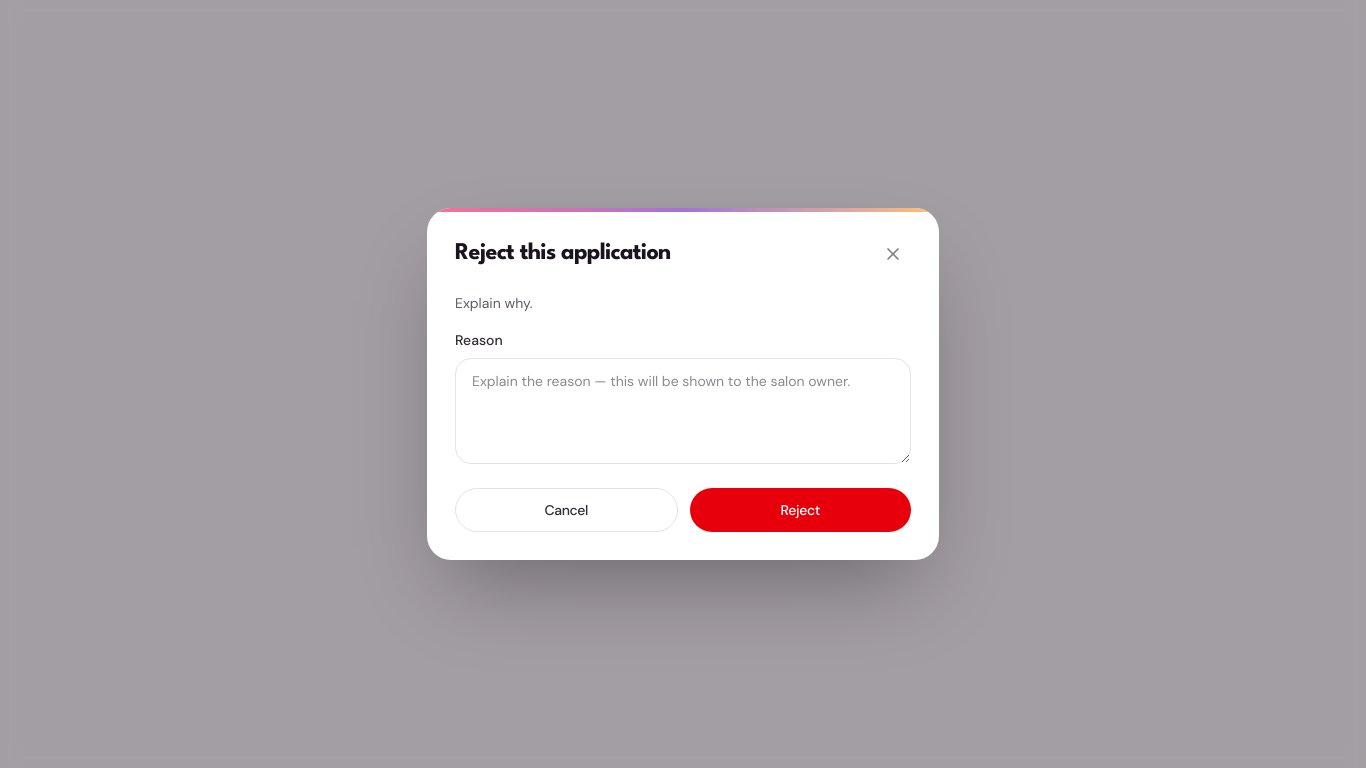
Scenario: ReasonModal (rejection/suspension-reason validation) › blocks submission and shows an error when the reason is empty
Click the button "Reject" at (800, 510), box top-left (690, 488), bottom-right (911, 532)
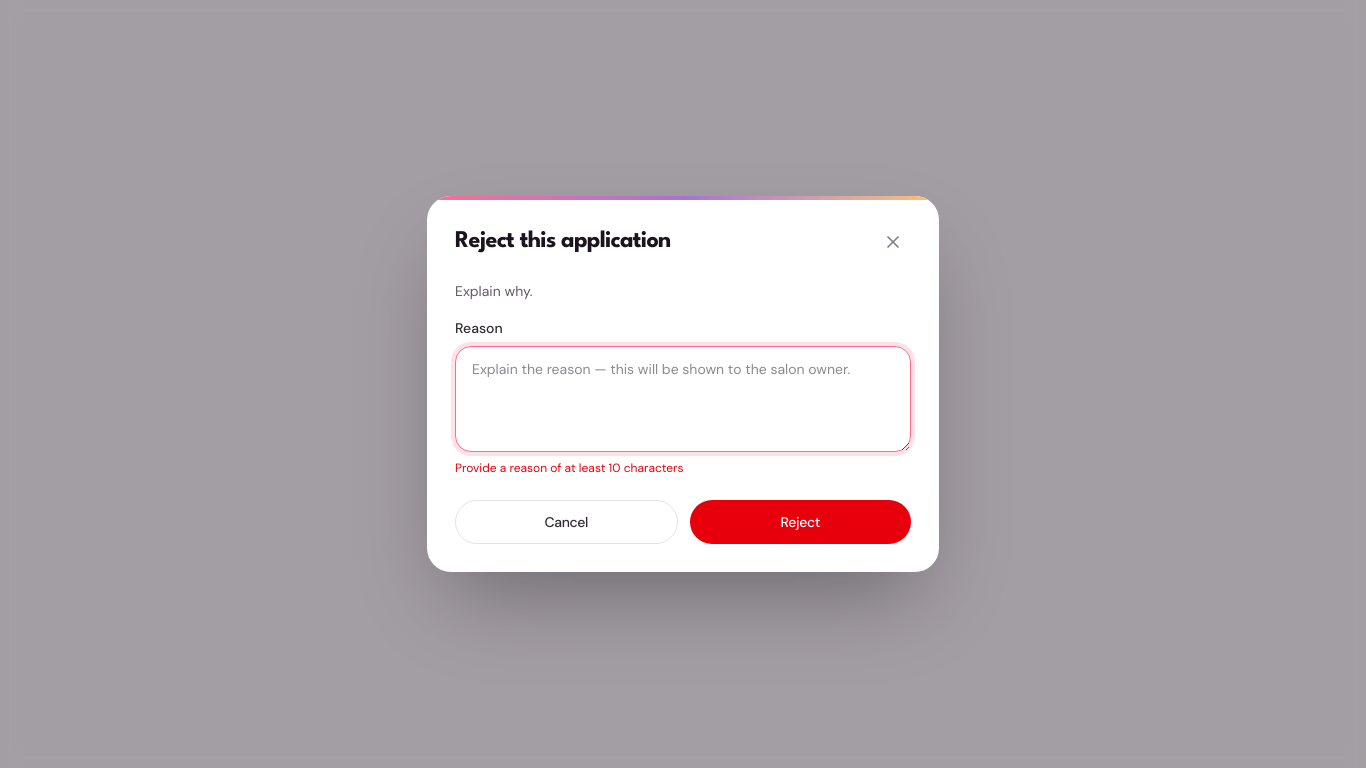
Check: the text "Provide a reason of at least 10 characters" is shown, box top-left (455, 460), bottom-right (684, 476)
